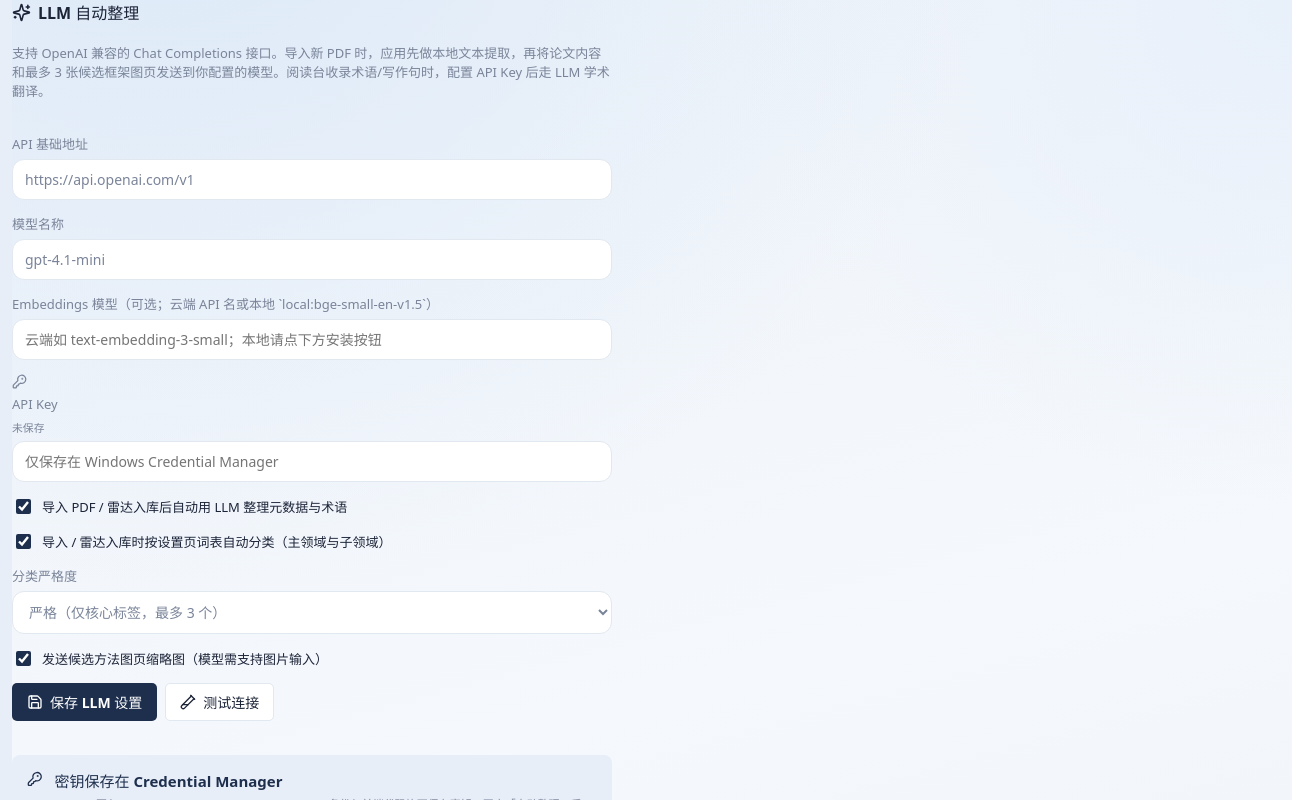
Test case: LLM connection test › does not test a connection when saving settings fails
The width and height of the screenshot is (1292, 800).
Step 1. Click the button "测试连接" → (220, 702), box [165,683,274,721]
(page scrolled)
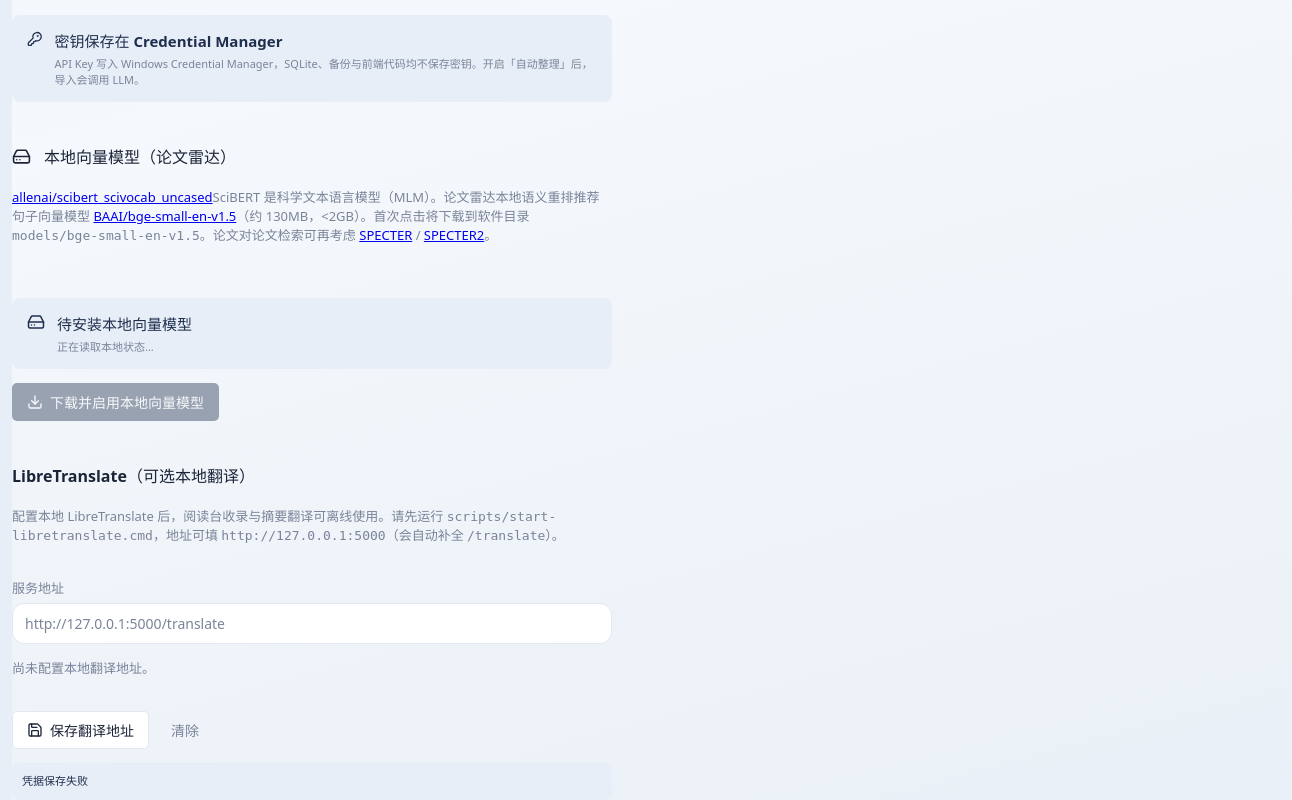
Expected: the text "凭据保存失败" is shown, [12,763,612,799]
